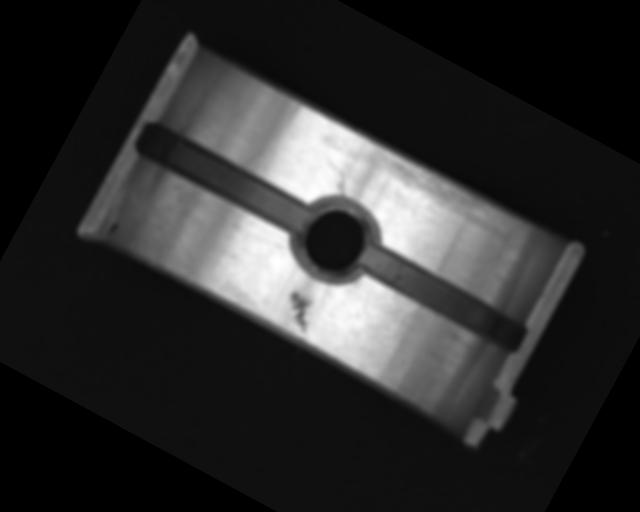blot: (104, 218, 121, 239)
bruise: (276, 285, 324, 335)
gap: (132, 117, 317, 240), (355, 238, 532, 356)
hole: (282, 185, 391, 293)
nick: (330, 171, 355, 199)
scratch: (370, 141, 532, 251)
